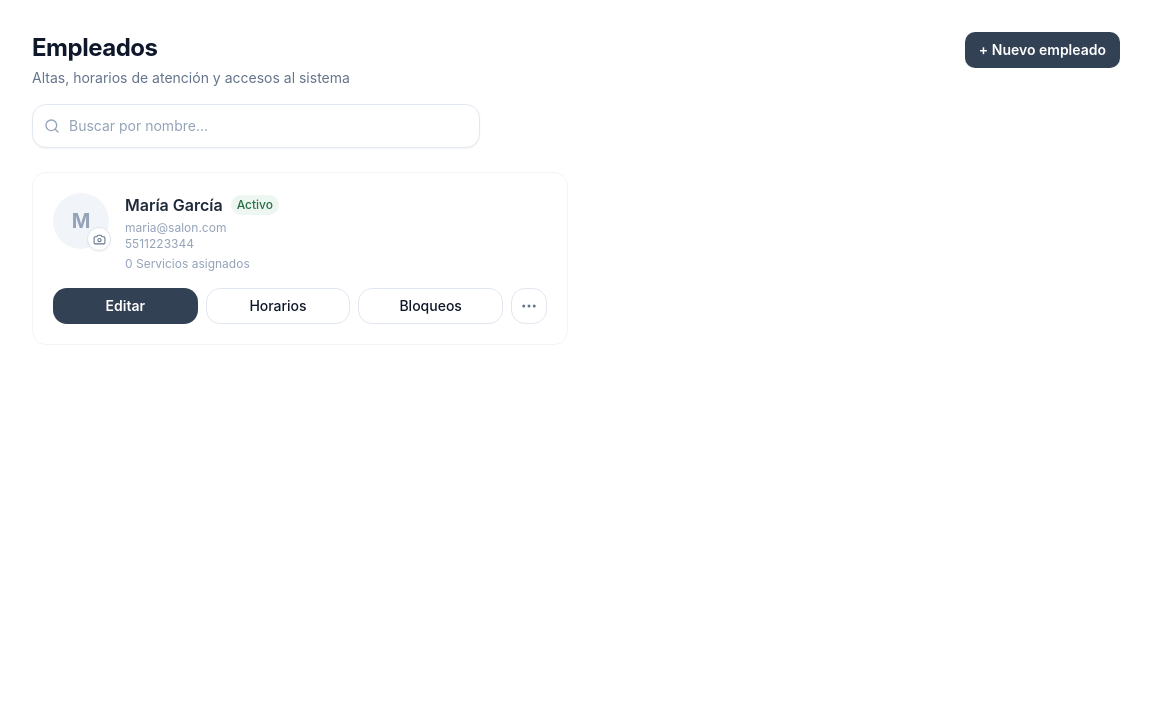
EmpleadosPage — eliminar empleado › con citas futuras bloquea la eliminación, dice cuántas y enlaza a Citas filtradas (OM-17)
Click the button named "Más acciones de María García" at (529, 306), box top-left (511, 288), bottom-right (547, 324)
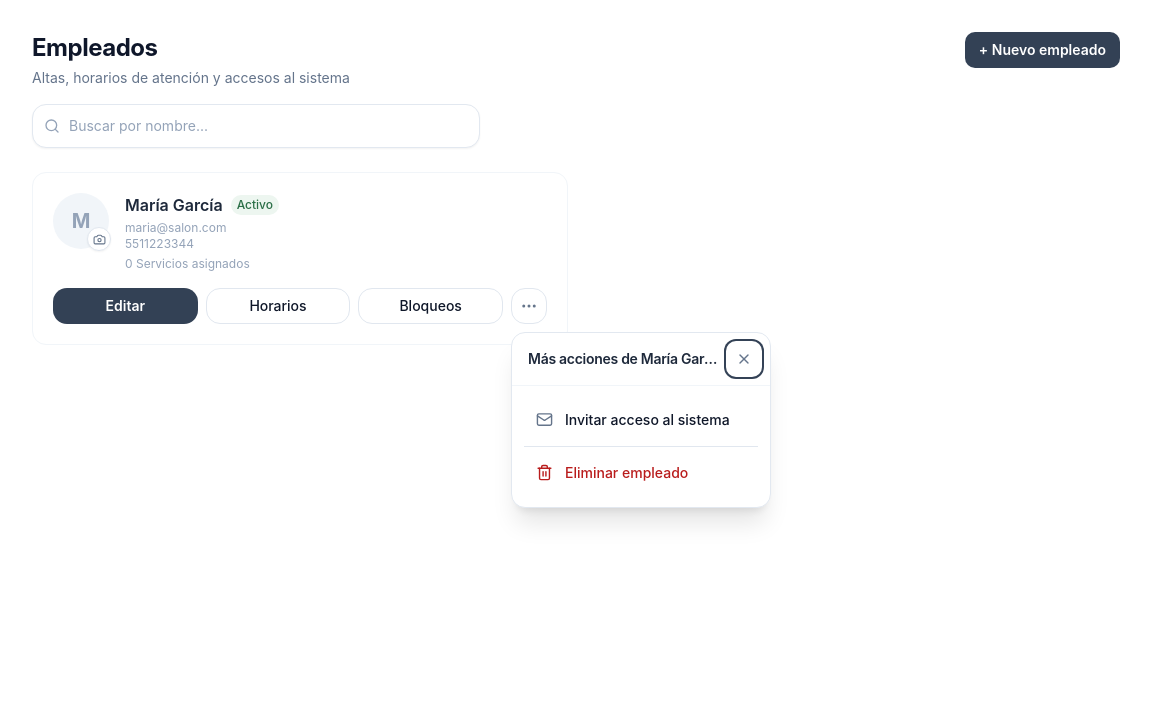
Click the button "Eliminar empleado" at (641, 473), box top-left (524, 451), bottom-right (758, 495)
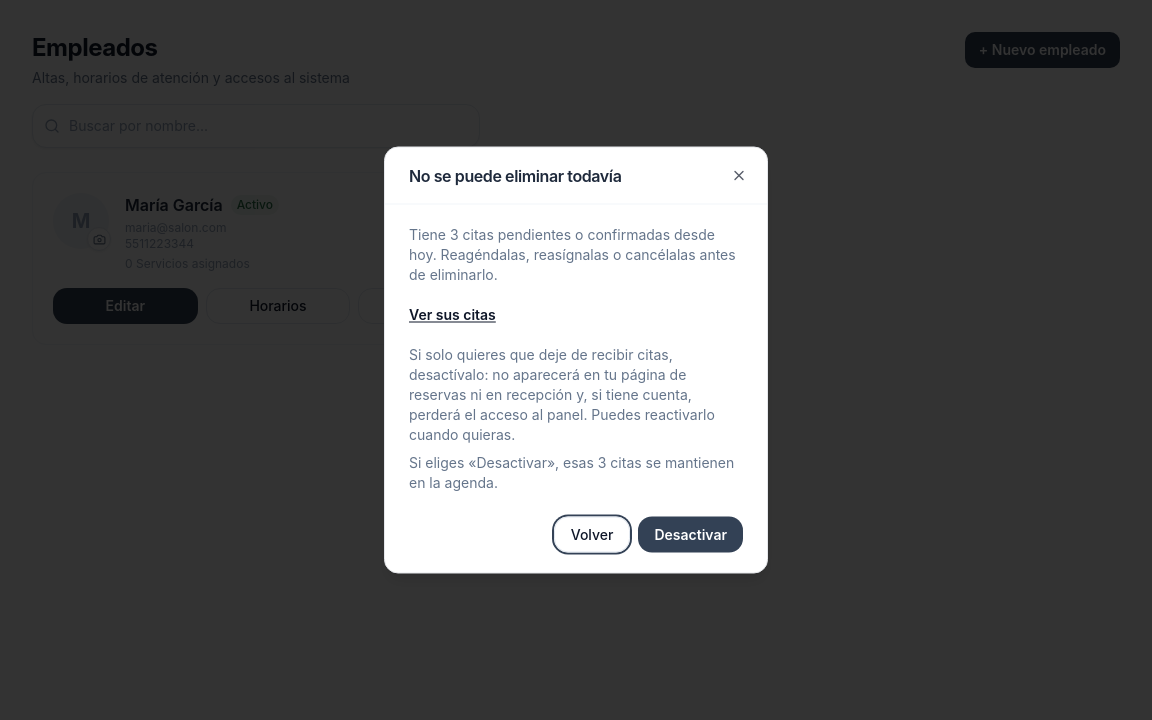
Expected: the dialog "No se puede eliminar todavía" shows "Tiene 3 citas pendientes o confirmadas desde hoy", top-left (409, 226), bottom-right (736, 282)
Expected: the dialog "No se puede eliminar todavía" shows "Si eliges «Desactivar», esas 3 citas se mantienen en la agenda.", top-left (409, 454), bottom-right (734, 490)
Expected: the button "Eliminar empleado" is gone
